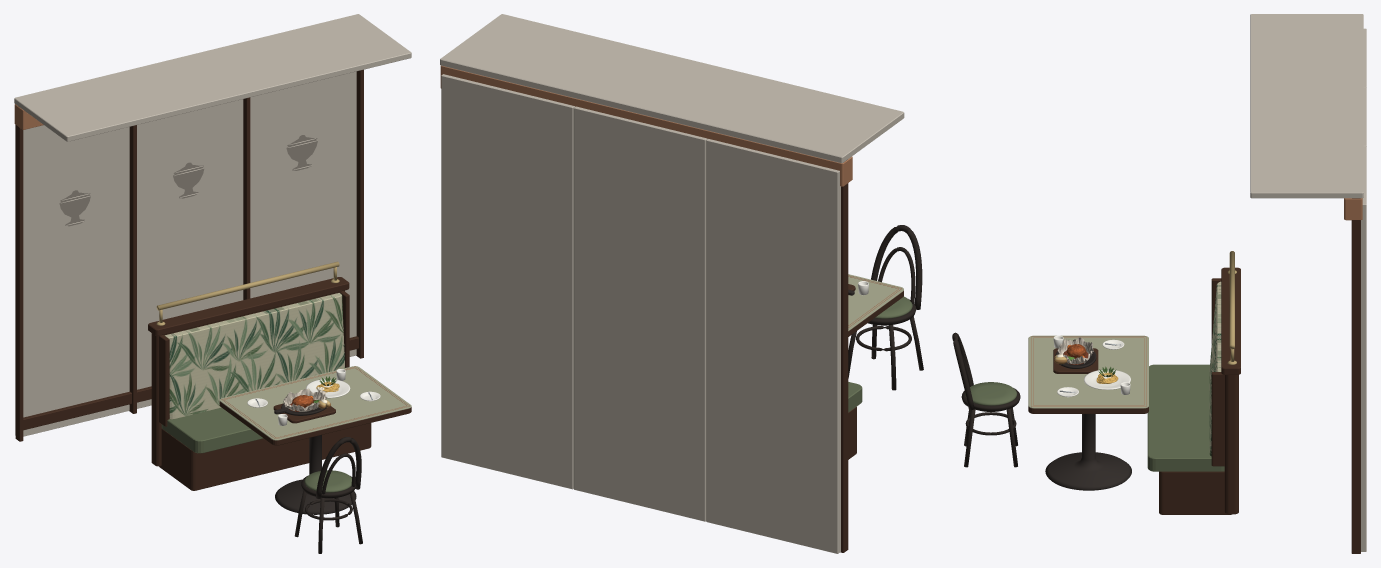
The model's file is gallery.glb.
3 views of the same model, side by side, from view 1: azimuth 30°, elevation 25°; view 2: azimuth 150°, elevation 25°; view 3: azimuth 270°, elevation 25° (orthographic). The views are drawn at different scales.
Visible parts, largest first — view 1: CollageDining, CollageBotanical, CollageMetal, CollageGlaze; view 2: CollageDining, CollageMetal; view 3: CollageDining, CollageMetal, CollageGlaze, CollageBotanical.
Boxes of the visible parts, x1,y1,x2,y2 form: CollageDining: (14,14,411,553); CollageBotanical: (165,293,344,419); CollageMetal: (14,104,372,411); CollageGlaze: (247,369,380,425); CollageDining: (440,14,923,553); CollageMetal: (440,65,852,186); CollageDining: (952,14,1366,553); CollageMetal: (1057,198,1362,392); CollageGlaze: (1053,335,1130,397); CollageBotanical: (1209,281,1221,456).
Bounding box in the file's own units: 2.95 × 2.84 × 2.88.
5 materials, 2 textured.
